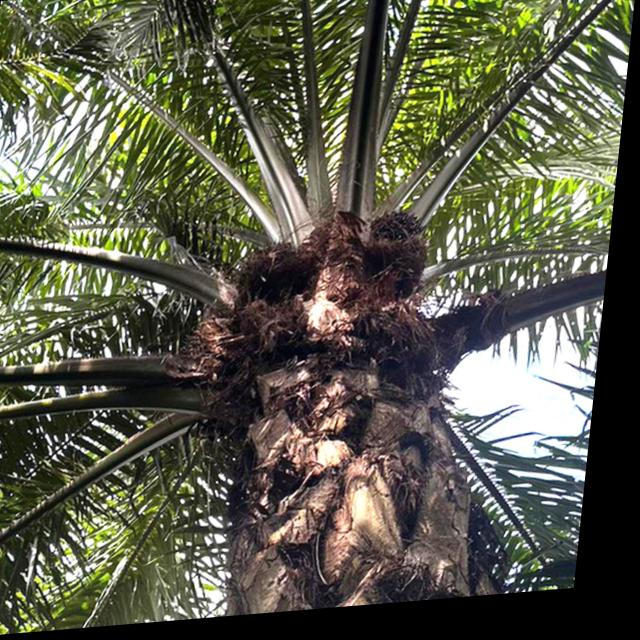unripe: (355, 209, 443, 312)
